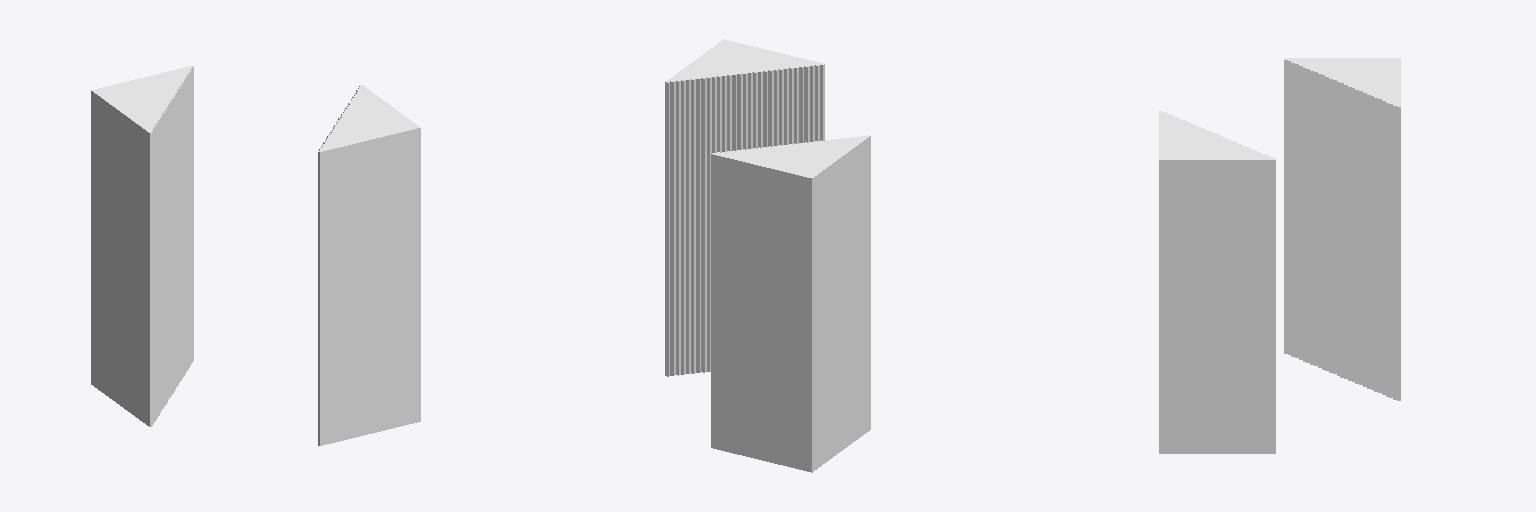
The model's file is building_10.obj.
3 views of the same model, side by side, from view 1: azimuth 30°, elevation 25°; view 2: azimuth 150°, elevation 25°; view 3: azimuth 270°, elevation 25° (orthographic).
Parts seen in each view (by area): view 1: object 1; view 2: object 1; view 3: object 1.
Part boxes in pixels (left/top/right/bottom): object 1: left=91, top=66, right=420, bottom=445; object 1: left=665, top=39, right=870, bottom=472; object 1: left=1159, top=58, right=1400, bottom=453.
Bounding box in the file's own units: 6.4 × 8.6 × 6.4.